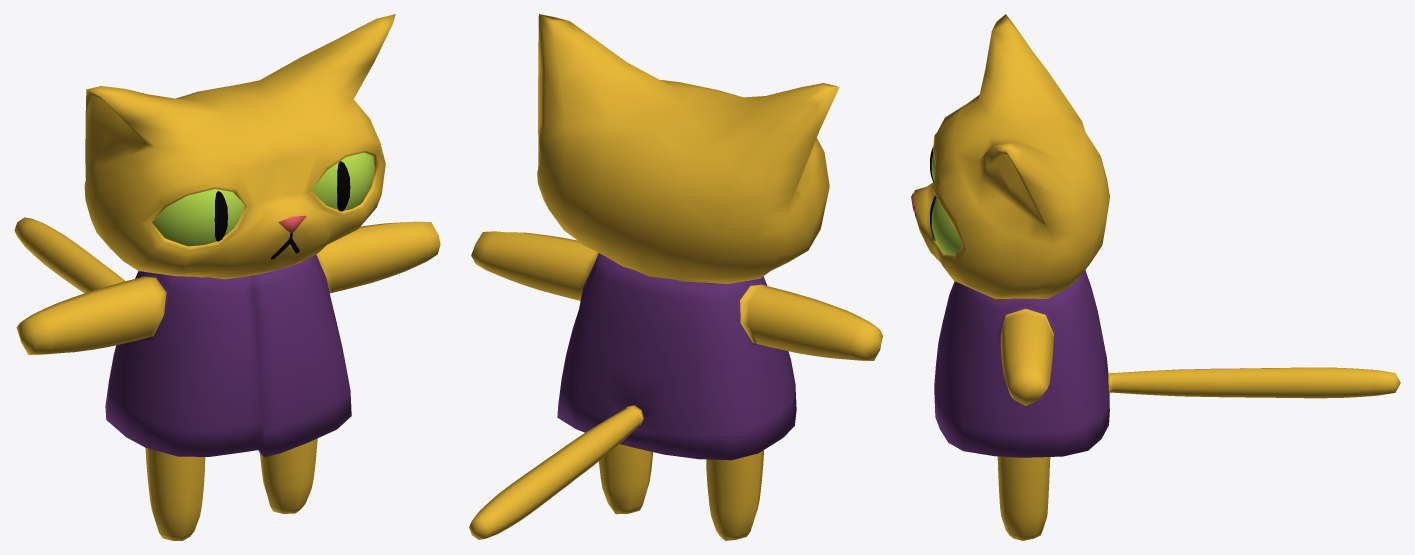
File: OSH_Cat_v03_EAM.fbx
3 renders of one model, left to right at view 1: azimuth 30°, elevation 25°; view 2: azimuth 150°, elevation 25°; view 3: azimuth 270°, elevation 25°, orthographic. The views are drawn at different scales.
Parts seen in each view (by area): view 1: BodyLimbs, Head, EyeR, EyeL, PupilL, PupilR; view 2: BodyLimbs, Head; view 3: BodyLimbs, Head, EyeL.
Boxes of the visible parts, left/top/right/bottom form: BodyLimbs: left=14, top=217, right=440, bottom=540; Head: left=84, top=14, right=395, bottom=279; EyeR: left=152, top=189, right=244, bottom=246; EyeL: left=311, top=152, right=374, bottom=210; PupilL: left=337, top=161, right=350, bottom=211; PupilR: left=214, top=191, right=227, bottom=241; BodyLimbs: left=469, top=231, right=882, bottom=540; Head: left=537, top=14, right=839, bottom=283; BodyLimbs: left=934, top=270, right=1400, bottom=540; Head: left=913, top=14, right=1109, bottom=298; EyeL: left=931, top=198, right=962, bottom=254.
Bounding box in the file's own units: 91.3 × 101 × 103.
